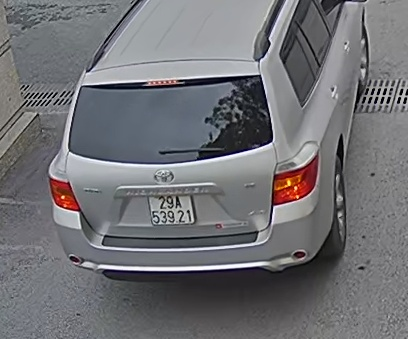vehicle plate: (144, 191, 195, 228)
